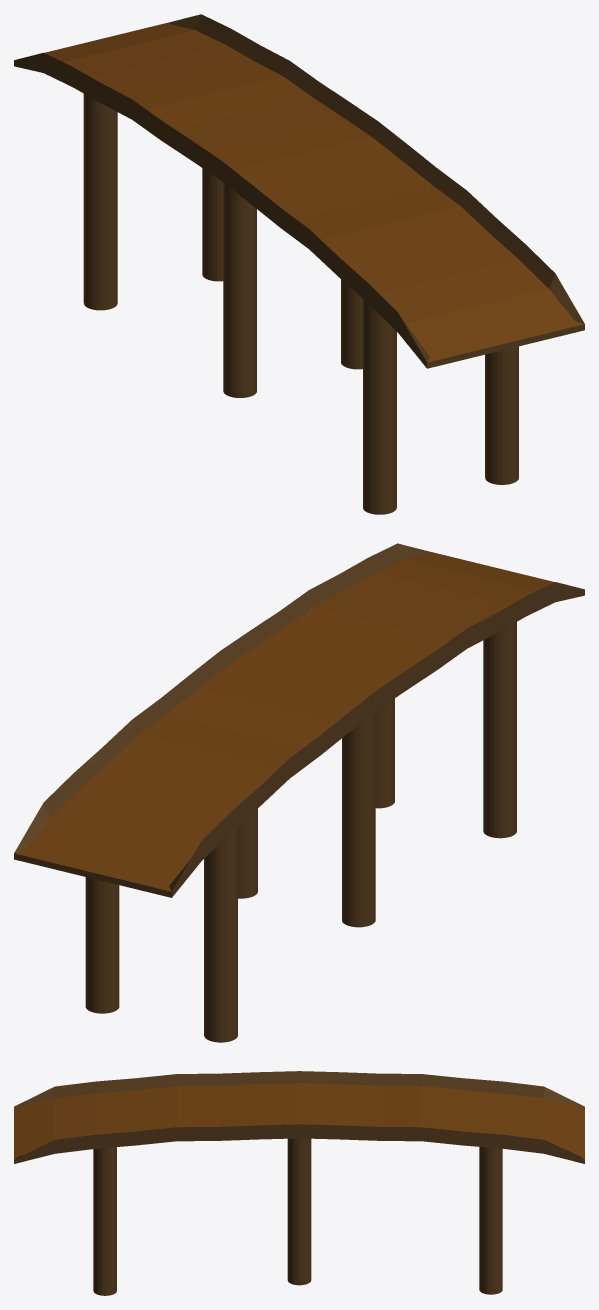
The model's file is bridge.glb.
The picture shows the model from 3 angles, top to bottom: view 1: azimuth 30°, elevation 25°; view 2: azimuth 150°, elevation 25°; view 3: azimuth 270°, elevation 25°; orthographic projection. The views are drawn at different scales.
Parts seen in each view (by area): view 1: Cube; view 2: Cube; view 3: Cube.
Part boxes in pixels (bbox=[...]): Cube: bbox=[14, 14, 584, 514]; Cube: bbox=[14, 543, 584, 1042]; Cube: bbox=[14, 1071, 584, 1295].
Size of the model in its own units: 3.85 by 5.81 by 17.46.
